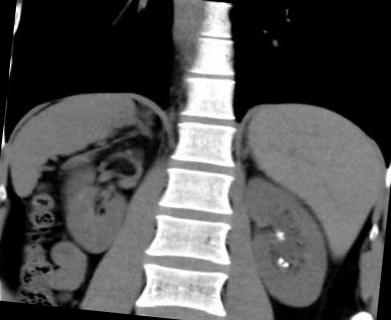Tas_Var: (274, 228, 285, 242), (280, 261, 290, 270), (274, 256, 285, 264)
